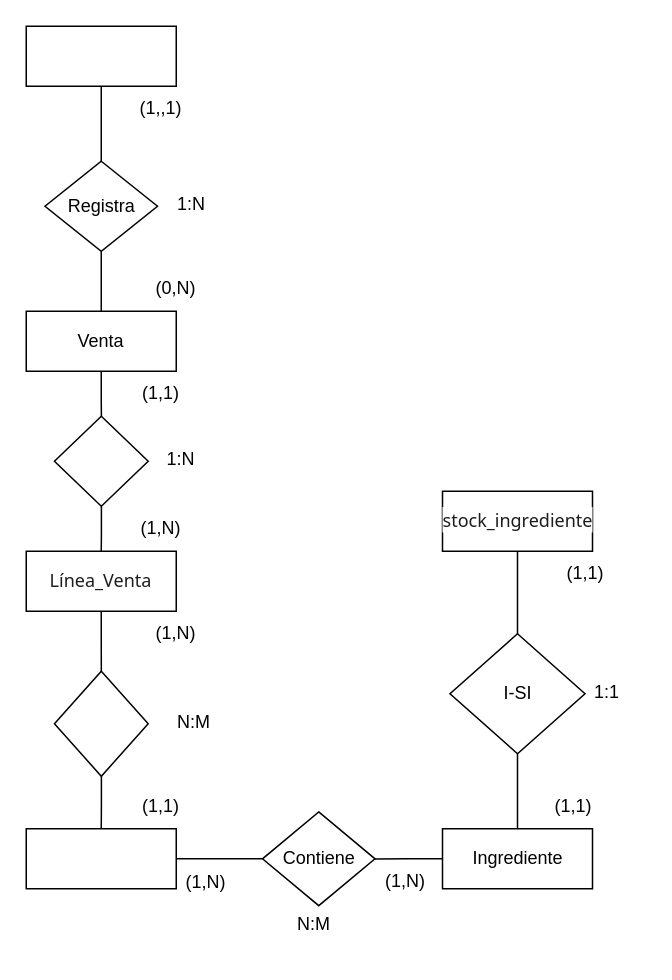
The diagram is 672 pixels wide and 980 high, and some of its shapes have lost their labels. The centre of each missing label's shape, as x and y in pixels:
"LV-P" goes at (100,723).
"Producto" goes at (100,858).
"Usuario" goes at (100,55).
"V-LV" goes at (100,460).
